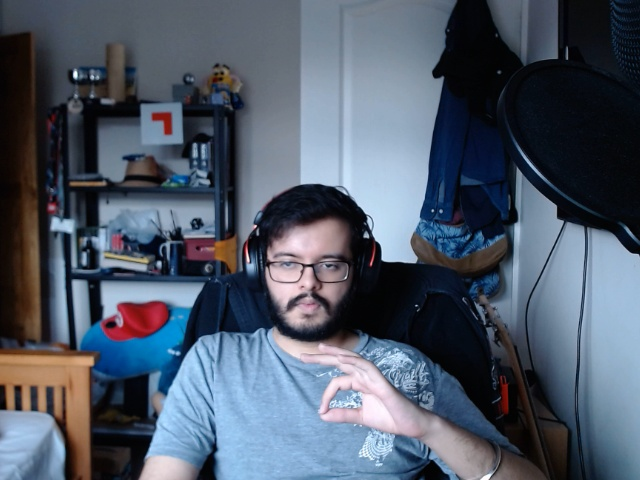Okay: (304, 340, 432, 452)
